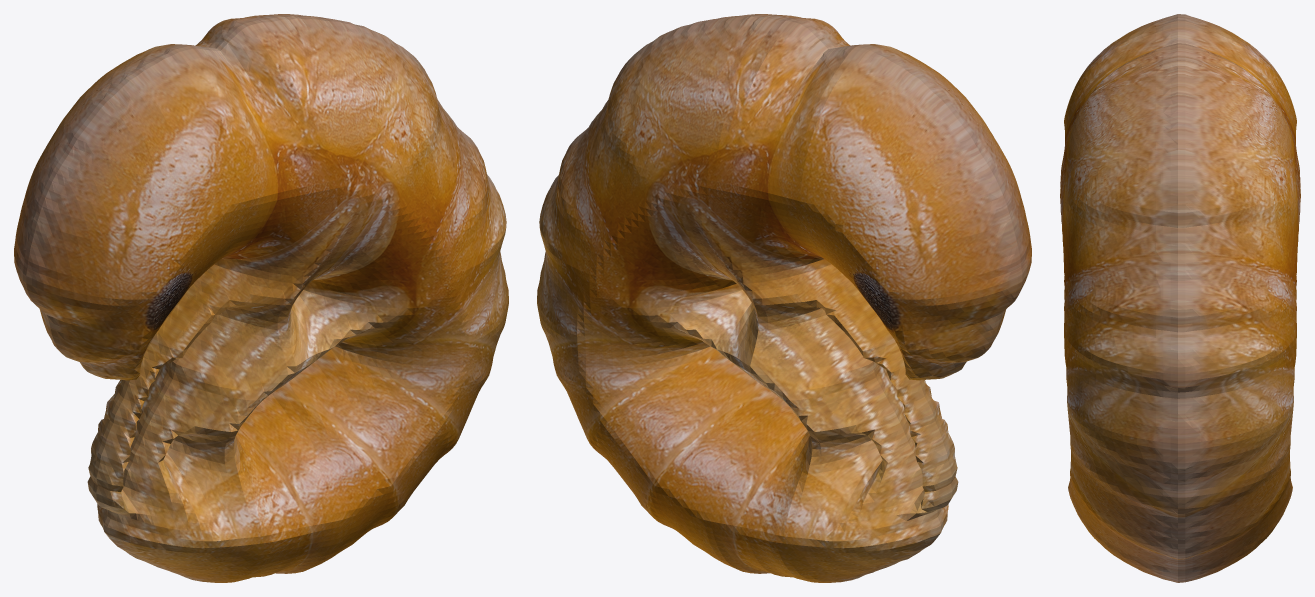
File: pupa_amber.glb
3 renders of one model, left to right at view 1: azimuth 30°, elevation 25°; view 2: azimuth 150°, elevation 25°; view 3: azimuth 270°, elevation 25°, orthographic. The views are drawn at different scales.
Parts seen in each view (by area): view 1: pupa_amber; view 2: pupa_amber; view 3: pupa_amber.
Boxes of the visible parts, left/top/right/bottom form: pupa_amber: left=14, top=14, right=508, bottom=582; pupa_amber: left=537, top=14, right=1031, bottom=582; pupa_amber: left=1060, top=14, right=1300, bottom=582.
Bounding box in the file's own units: 0.9699 × 1.08 × 0.4584.
1 material, 1 textured.
